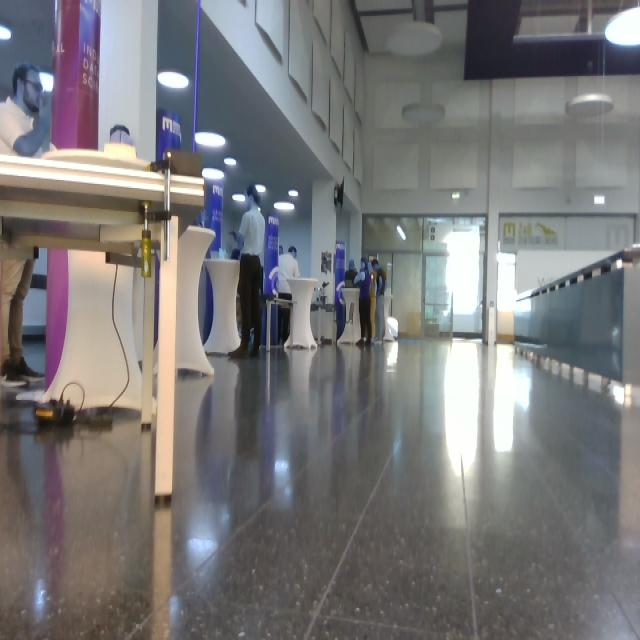door: (362, 213, 487, 341), (423, 216, 487, 340)
light bulb: (385, 21, 442, 57), (605, 5, 640, 46), (566, 93, 614, 118), (402, 102, 445, 125), (158, 71, 189, 91), (195, 132, 226, 148), (40, 72, 54, 93), (202, 168, 224, 180), (274, 201, 295, 212), (1, 25, 12, 41), (397, 225, 406, 241), (224, 157, 237, 166), (232, 195, 246, 203), (255, 184, 266, 193), (289, 189, 299, 197)
person: (1, 64, 57, 384), (228, 184, 266, 360), (277, 247, 300, 347), (354, 257, 374, 346), (371, 260, 387, 342)
tiled floor: (1, 335, 639, 639)
